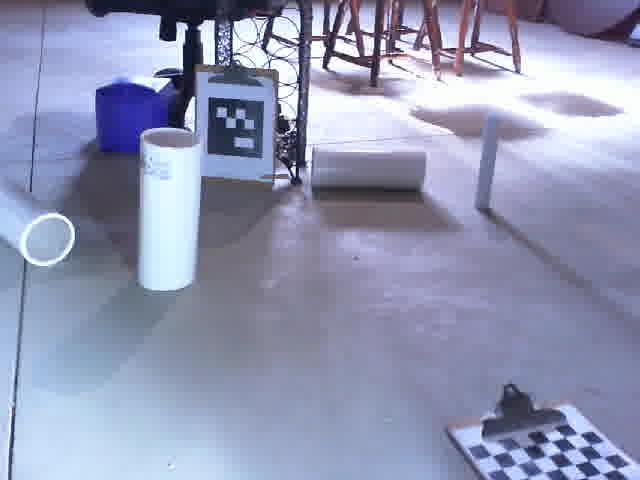coral: (133, 124, 201, 296), (0, 170, 80, 269), (305, 144, 433, 194)
